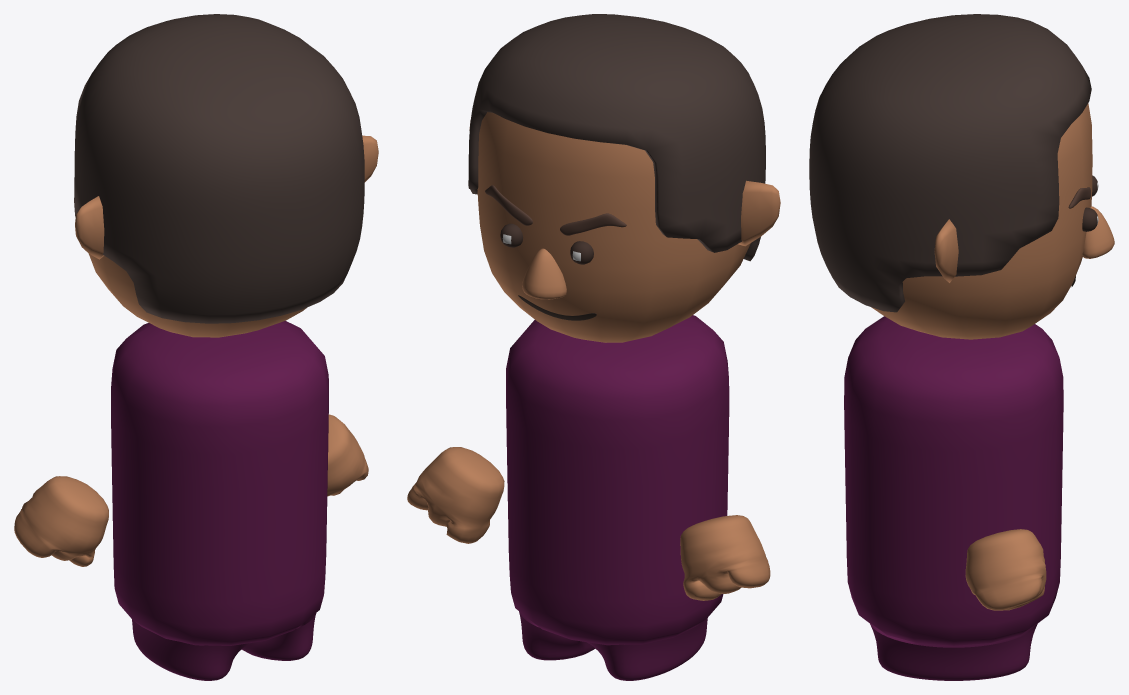
Rendered from player.glb.
The picture shows the model from 3 angles, left to right: view 1: azimuth 30°, elevation 25°; view 2: azimuth 150°, elevation 25°; view 3: azimuth 270°, elevation 25°; orthographic projection. The views are drawn at different scales.
Visible parts, largest first — view 1: Plane, Torso, Hands, Pants; view 2: Plane, Torso, Hands, Pants; view 3: Plane, Torso, Pants, Hands.
Part boxes in pixels (bbox=[...]): Plane: bbox=[74, 14, 378, 337]; Torso: bbox=[111, 321, 328, 645]; Hands: bbox=[14, 414, 368, 566]; Pants: bbox=[132, 613, 316, 680]; Plane: bbox=[468, 14, 780, 342]; Torso: bbox=[506, 315, 729, 645]; Hands: bbox=[407, 447, 770, 600]; Pants: bbox=[519, 611, 707, 680]; Plane: bbox=[809, 14, 1114, 339]; Torso: bbox=[844, 316, 1063, 645]; Pants: bbox=[870, 623, 1037, 680]; Hands: bbox=[965, 529, 1046, 610].
Bounding box in the file's own units: 3.31 × 5.64 × 2.53.
